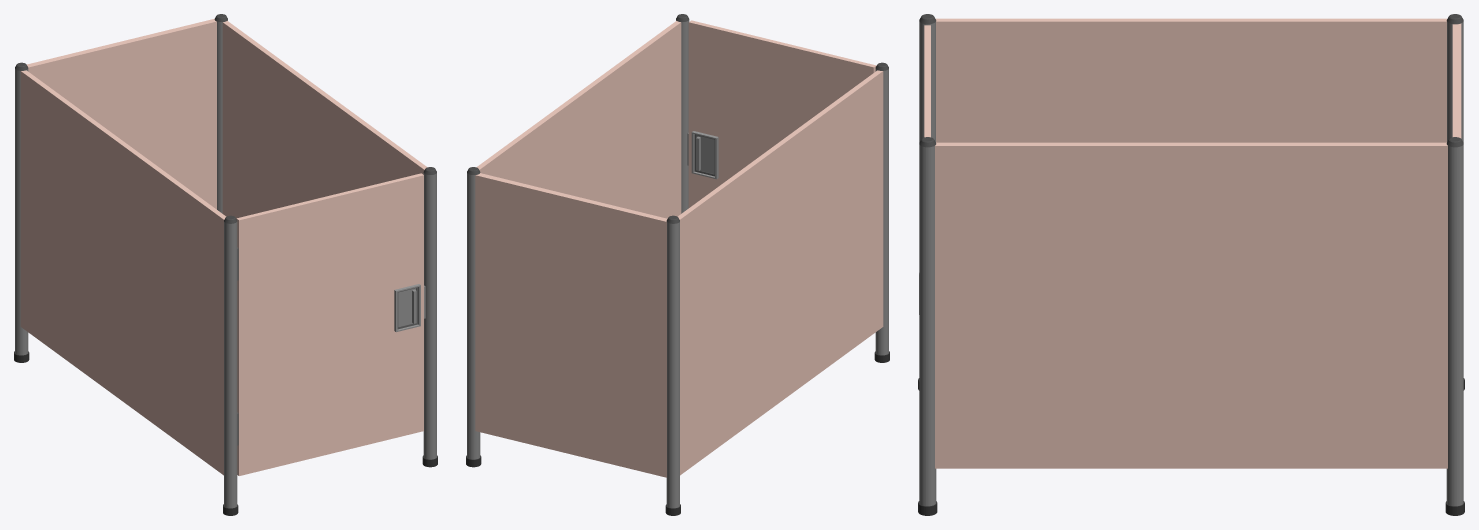
File: Single Bathroom Stall Pink.fbx
3 renders of one model, left to right at view 1: azimuth 30°, elevation 25°; view 2: azimuth 150°, elevation 25°; view 3: azimuth 270°, elevation 25°, orthographic. The views are drawn at different scales.
Visible parts, largest first — view 1: Single Bathroom Stall Pink; view 2: Single Bathroom Stall Pink; view 3: Single Bathroom Stall Pink.
Boxes of the visible parts, x1,y1,x2,y2 form: Single Bathroom Stall Pink: [14, 14, 437, 515]; Single Bathroom Stall Pink: [466, 14, 889, 515]; Single Bathroom Stall Pink: [918, 14, 1464, 515].
Bounding box in the file's own units: 162 × 215 × 286.
1 material, 1 textured.
